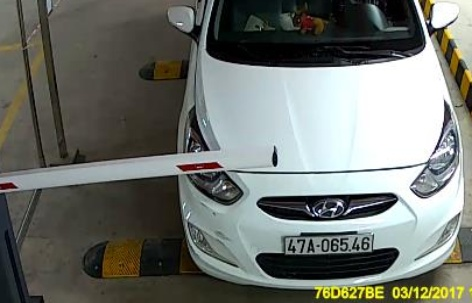plate: (277, 223, 380, 262)
